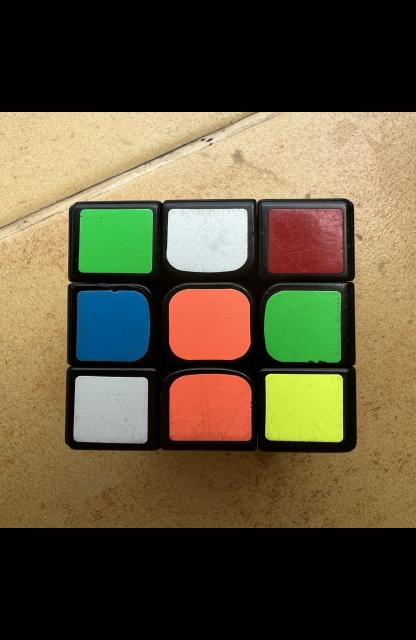Blue: (76, 291, 149, 361)
Green: (263, 291, 340, 362), (78, 208, 152, 273)
Orange: (168, 289, 249, 360), (168, 374, 250, 441)
Red: (267, 208, 343, 273)
White: (166, 208, 247, 272), (72, 376, 147, 444)
Yellow: (264, 374, 343, 442)
